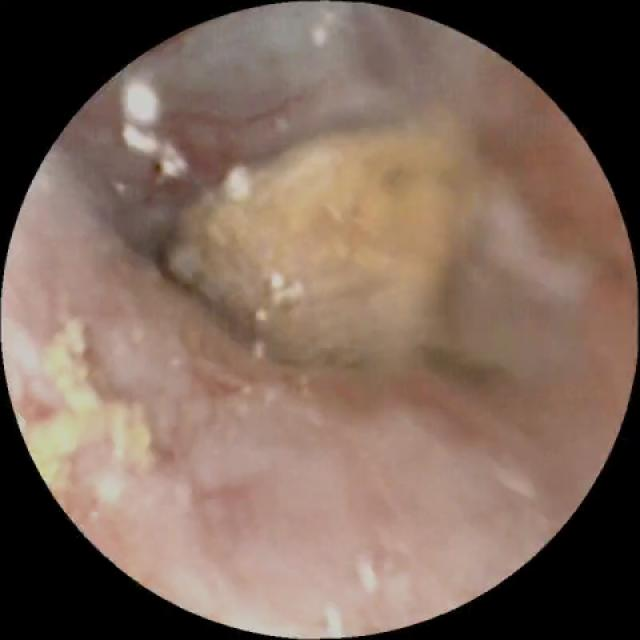stone: (168, 113, 499, 374), (22, 316, 149, 476)
